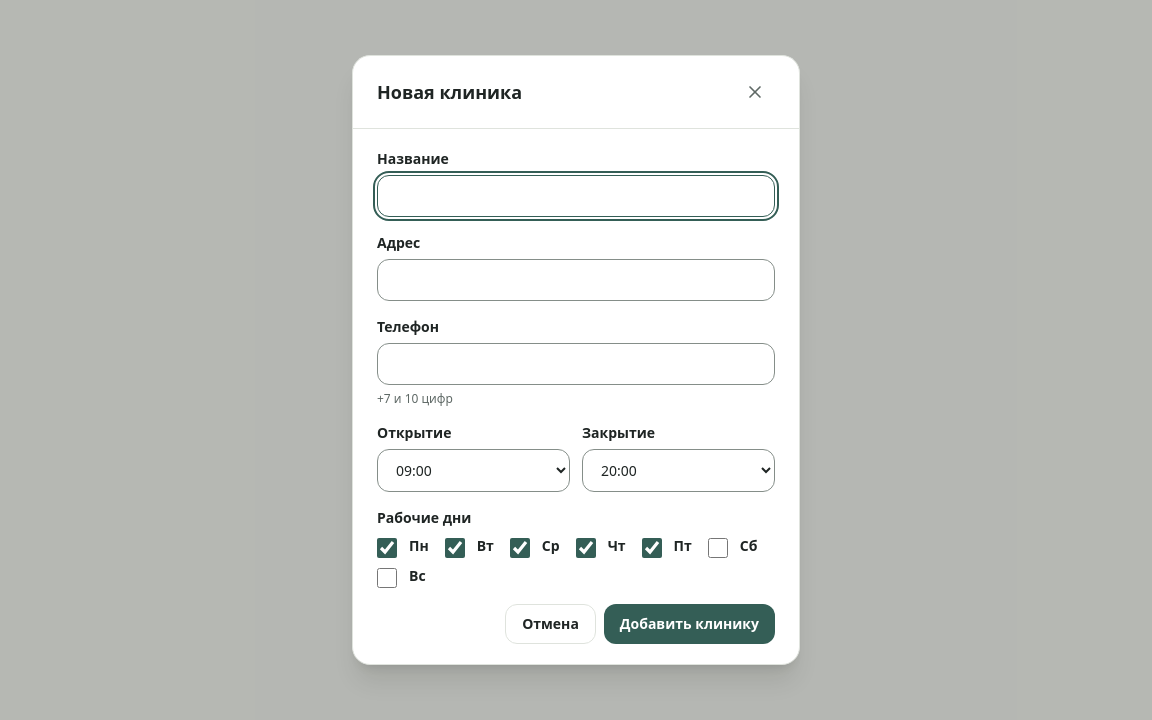
it: ClinicFormModal: добавление › пустые поля — ошибки, фокус на названии, запроса нет
Expected: the heading "Новая клиника" is shown, 377,78 -> 522,106
Click the button "Добавить клинику": (689, 624) 604,604 -> 775,644
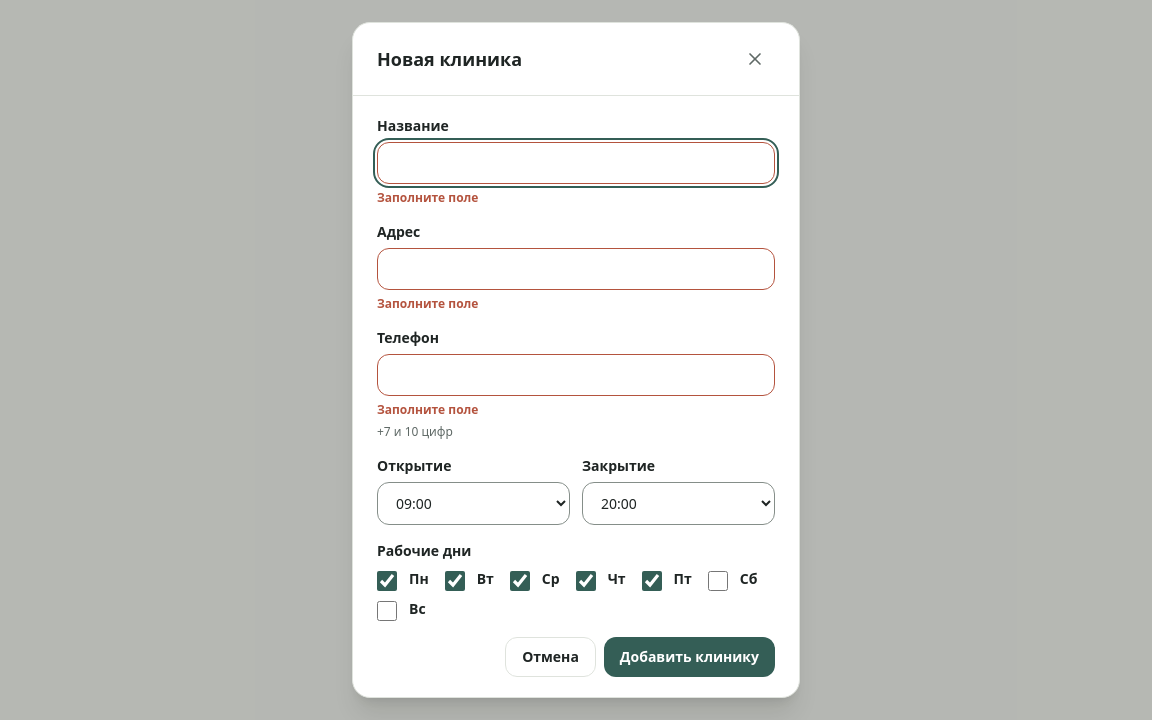
Now the text "Заполните поле" is shown 3 times, box 377,189 -> 478,206; 377,295 -> 478,312; 377,401 -> 478,418
